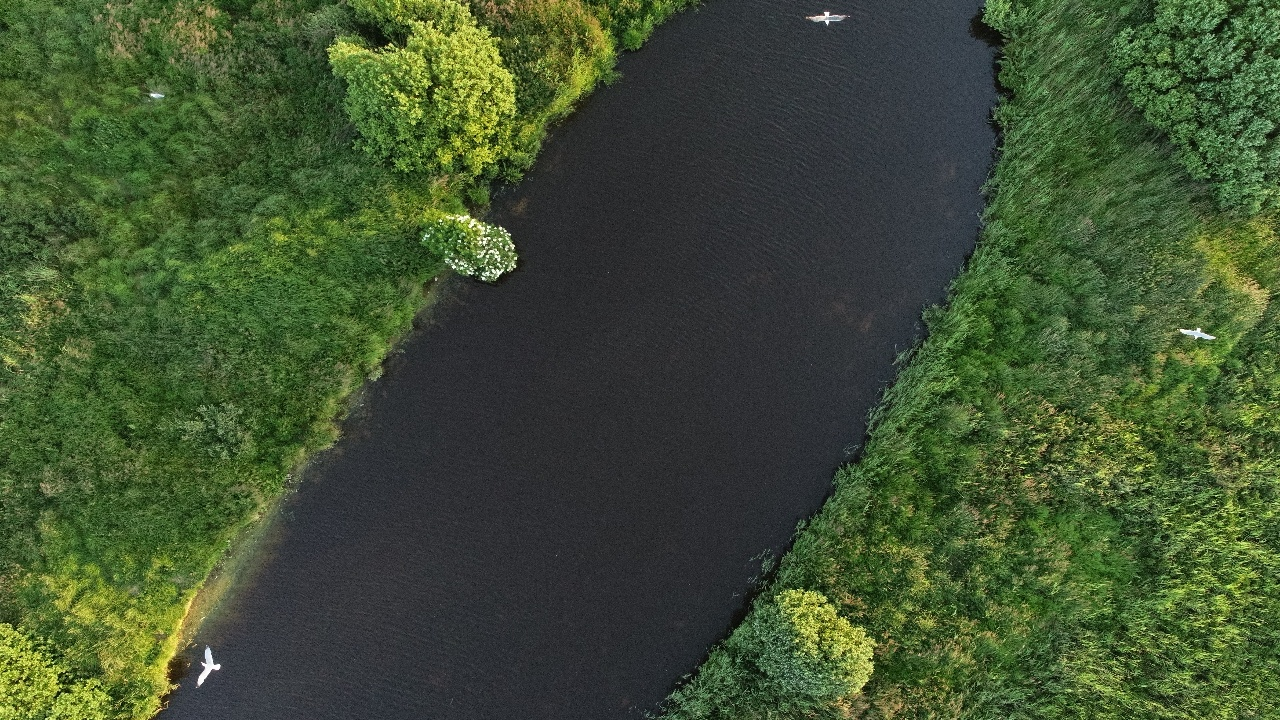Bird: (179, 640, 237, 694), (1171, 309, 1229, 363), (796, 1, 858, 42), (134, 76, 175, 116)
